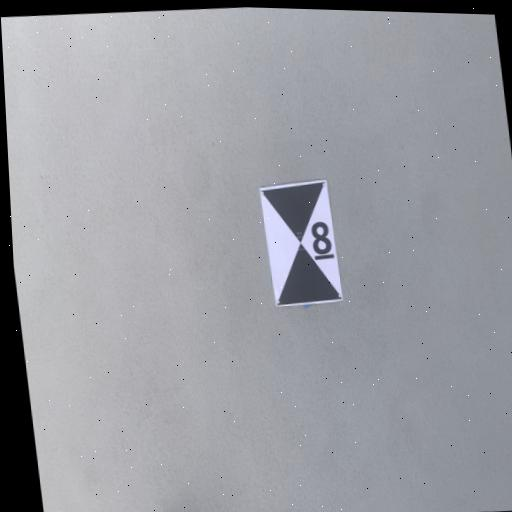target8: (260, 181, 343, 301)
